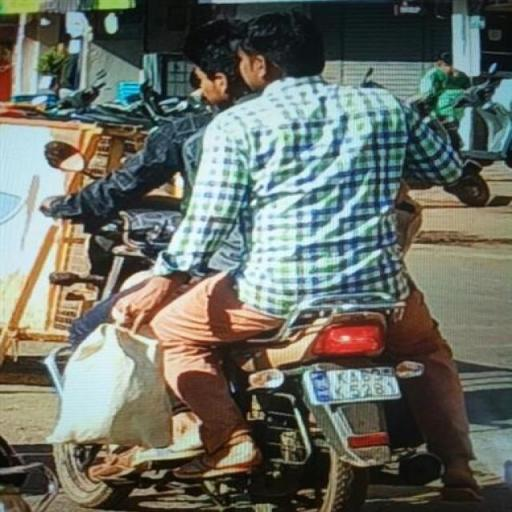tripple riding: (36, 7, 482, 308)
